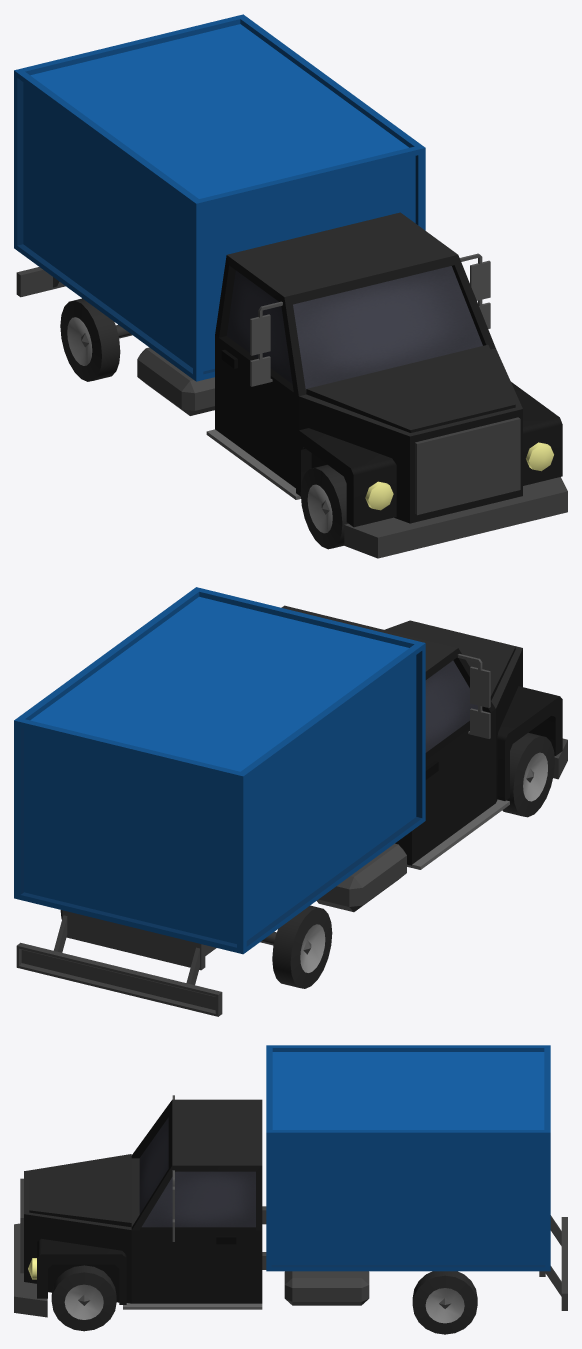
The model's file is Truck_A3.fbx.
3 renders of one model, top to bottom at view 1: azimuth 30°, elevation 25°; view 2: azimuth 150°, elevation 25°; view 3: azimuth 270°, elevation 25°, orthographic. The views are drawn at different scales.
Visible parts, largest first — view 1: Truck_Body, Truck_RR, Truck_RF; view 2: Truck_Body, Truck_RR, Truck_RF; view 3: Truck_Body, Truck_LF, Truck_LR.
Part boxes in pixels (x1,y1,x2,y2): Truck_Body: [14, 14, 567, 558]; Truck_RR: [60, 298, 120, 381]; Truck_RF: [300, 464, 348, 549]; Truck_Body: [14, 587, 567, 1016]; Truck_RR: [272, 905, 332, 988]; Truck_RF: [502, 732, 554, 817]; Truck_Body: [14, 1045, 567, 1317]; Truck_LF: [51, 1265, 116, 1331]; Truck_LR: [412, 1271, 477, 1334].
Bounding box in the file's own units: 235 × 243 × 604.
1 material, 1 textured.
